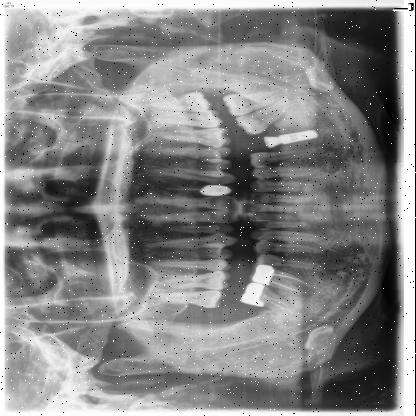ITI: (281, 130, 319, 144)
